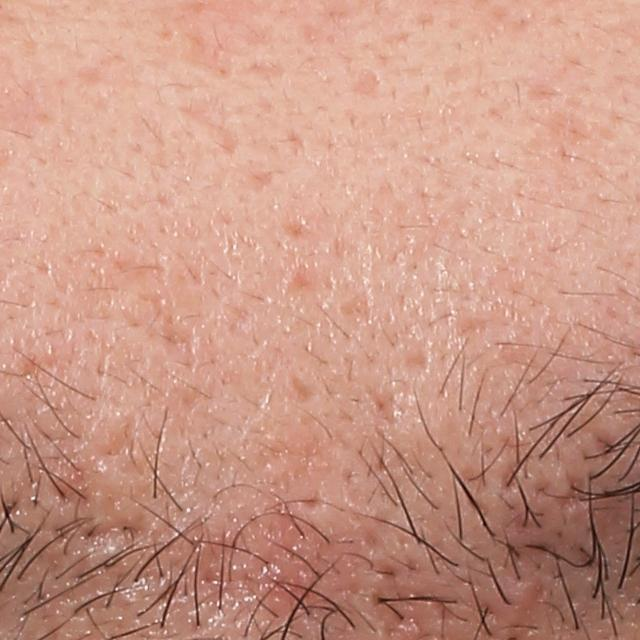atrophic_scar: (168, 16, 252, 82), (94, 416, 152, 481), (178, 96, 238, 152), (283, 371, 318, 404), (284, 265, 318, 296), (277, 219, 318, 244), (350, 71, 383, 95), (239, 61, 286, 77), (245, 168, 275, 193), (404, 354, 433, 373), (296, 492, 321, 512)
